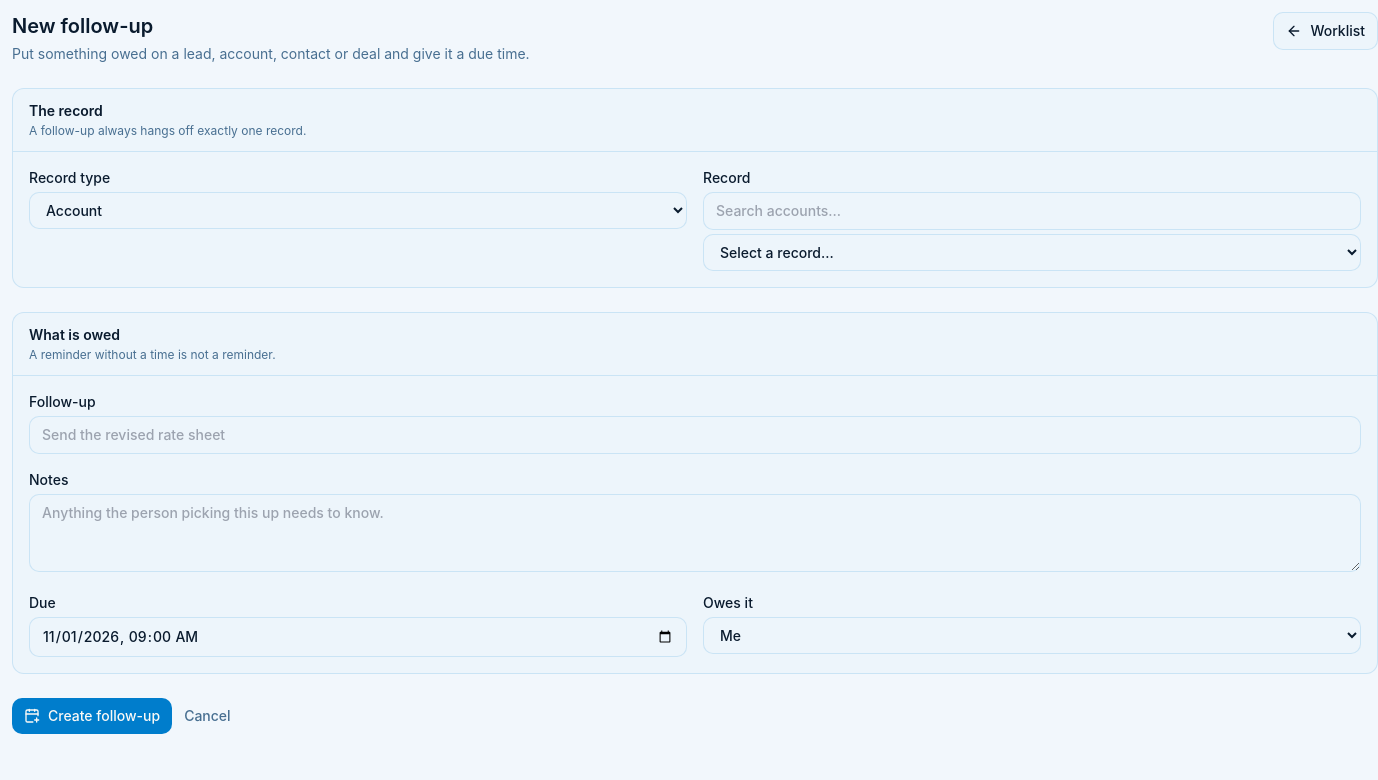
Test case: the follow-up form › asks for the record before it can create anything
Type "Nothing to hang" into the field labelled "Follow-up" at (695, 435), box [29,416,1361,454]
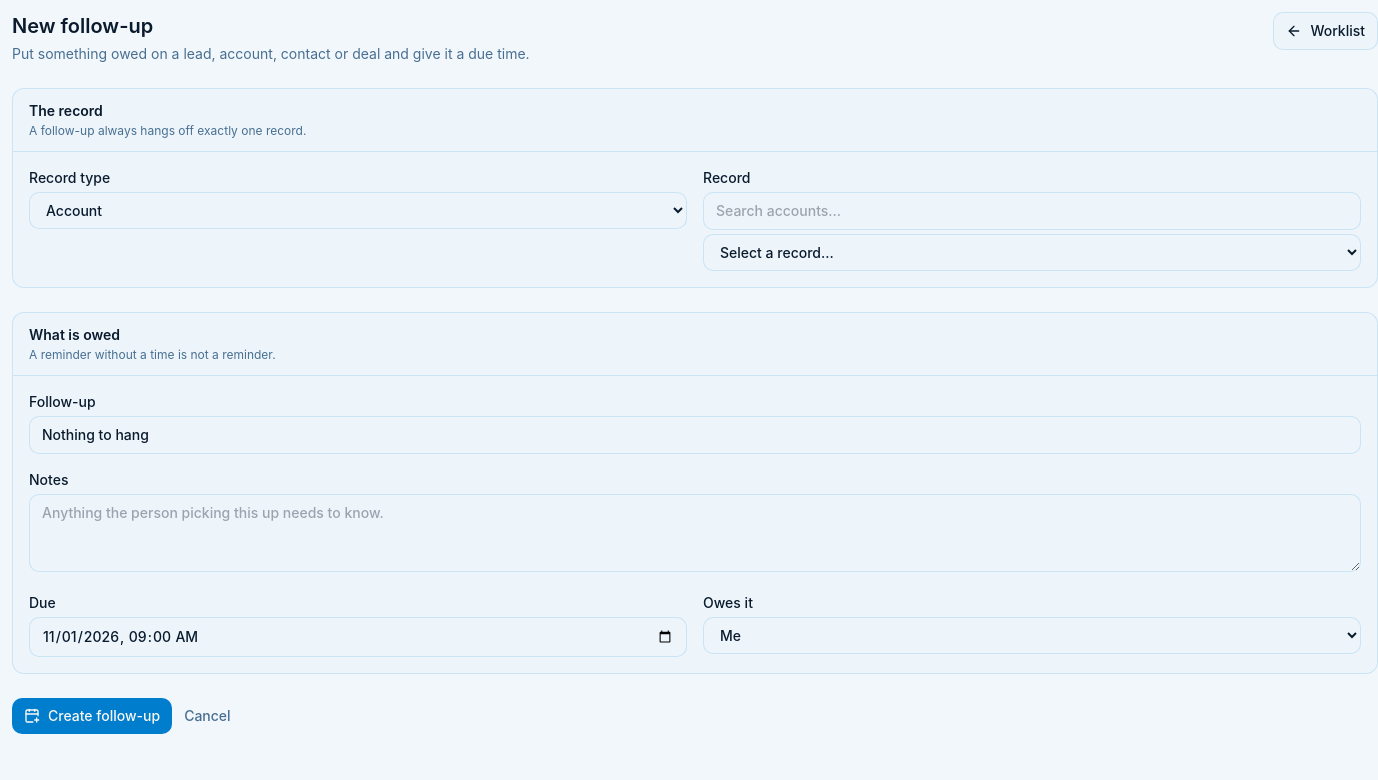
Click the button "Create follow-up" at (92, 716), box [12,698,172,734]
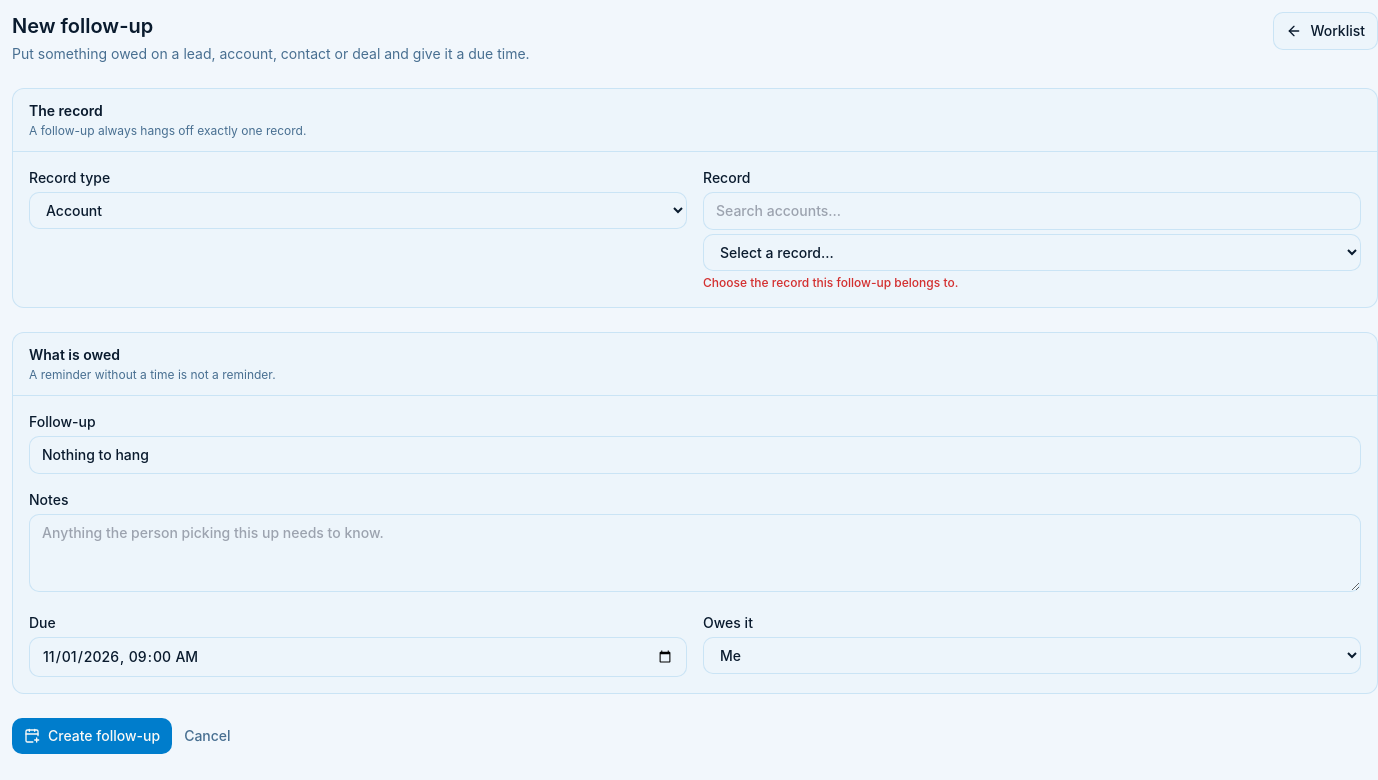
Now the text "Choose the record this follow-up belongs to." is shown, box [703,275,958,290]
